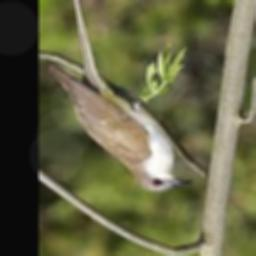Cuckoo: (48, 65, 194, 192)
